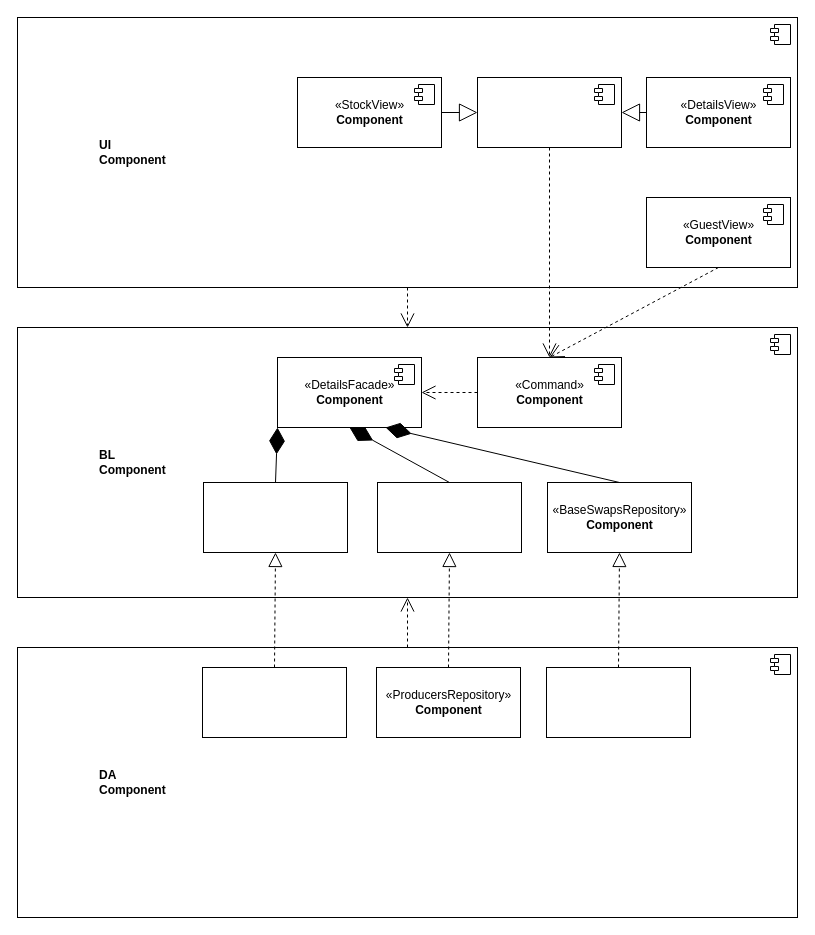
The diagram is 815 pixels wide and 935 high, and some of its shapes have lost their labels. Here are the shapes that lost their labels. From the top down, the centre of each, then its label:
At [549,112]: "«ClientView» Component".
At [275,517]: "«BaseDetailsRepository» Component".
At [449,517]: "«BaseProducersRepository» Component".
At [274,702]: "«DetailsRepository» Component".
At [618,702]: "«SwapsRepository» Component".
